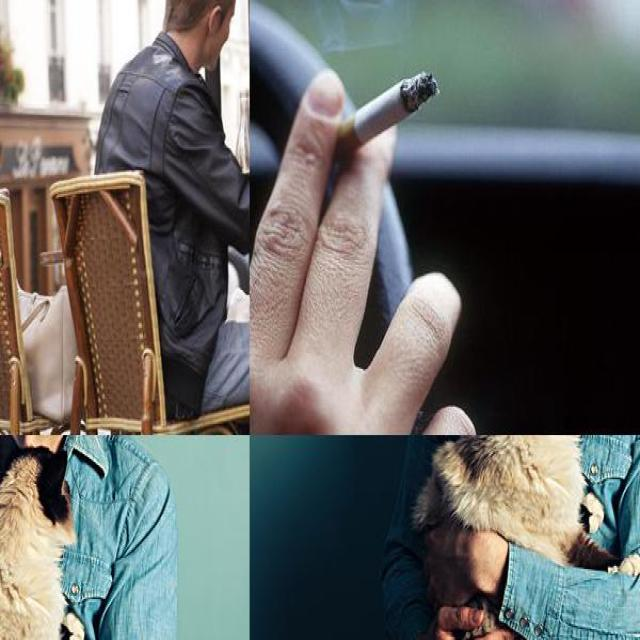smoking: (328, 72, 440, 166)
